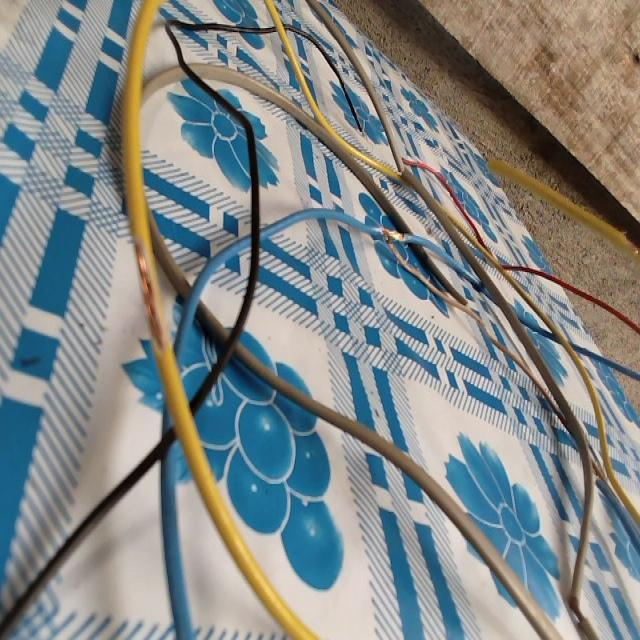-: (128, 232, 181, 365), (377, 220, 410, 255)
